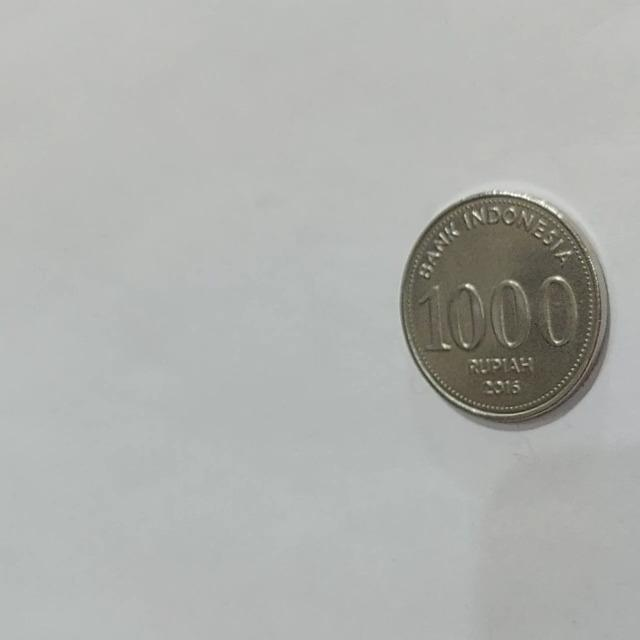Rp100: (397, 187, 610, 428)
